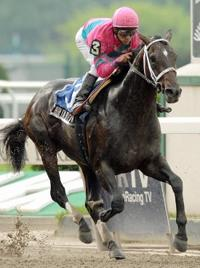person: (71, 7, 144, 115)
